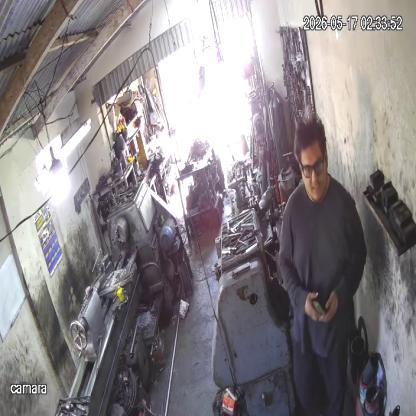lentes: (299, 151, 325, 177)
